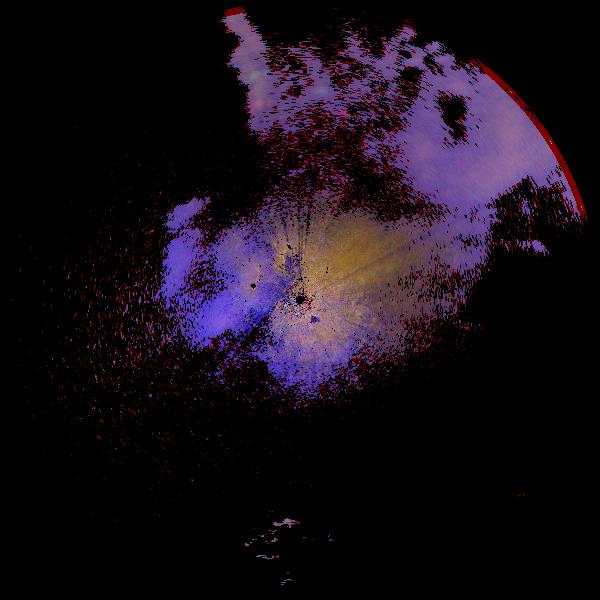roost: (295, 313, 352, 370), (329, 293, 374, 338), (280, 357, 319, 396)
